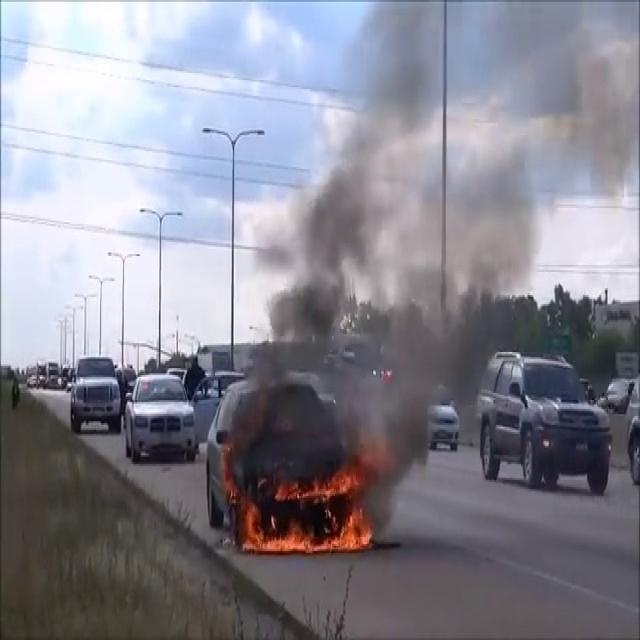Fire: (239, 462, 375, 558)
Smoke: (226, 5, 544, 466)
